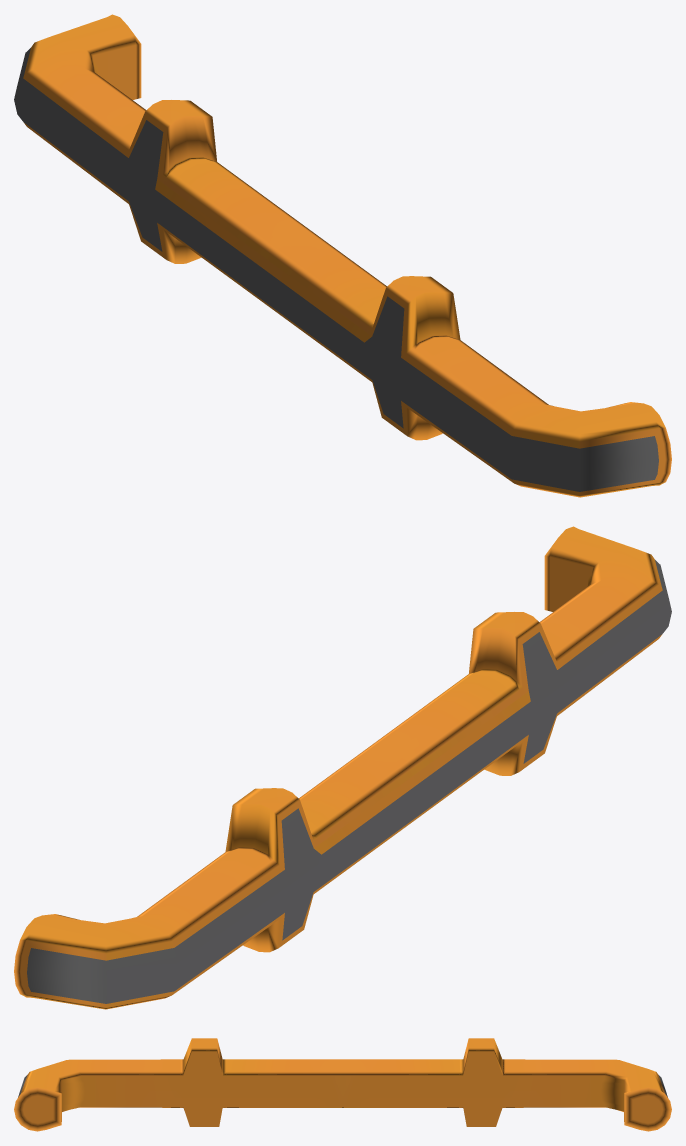
Rendered from ParachoqueCarro.fbx.
3 views of the same model, one above another, from view 1: azimuth 30°, elevation 25°; view 2: azimuth 150°, elevation 25°; view 3: azimuth 270°, elevation 25° (orthographic). The views are drawn at different scales.
Parts seen in each view (by area): view 1: ParachoqueCarro; view 2: ParachoqueCarro; view 3: ParachoqueCarro.
Part boxes in pixels (box(x1,y1,x2,y2)): ParachoqueCarro: box(14, 14, 671, 497); ParachoqueCarro: box(14, 526, 671, 1009); ParachoqueCarro: box(14, 1038, 671, 1131).
Bounding box in the file's own units: 23.41 × 25.36 × 180.
